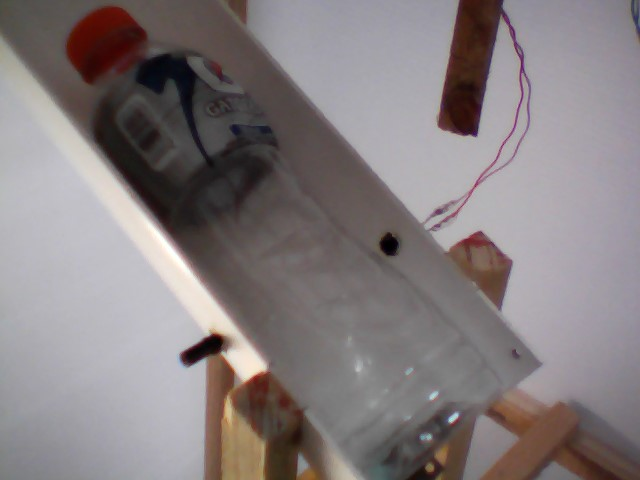plastico: (60, 1, 510, 480)
